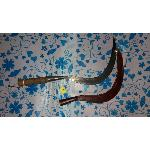Celurit: (7, 34, 129, 110)
